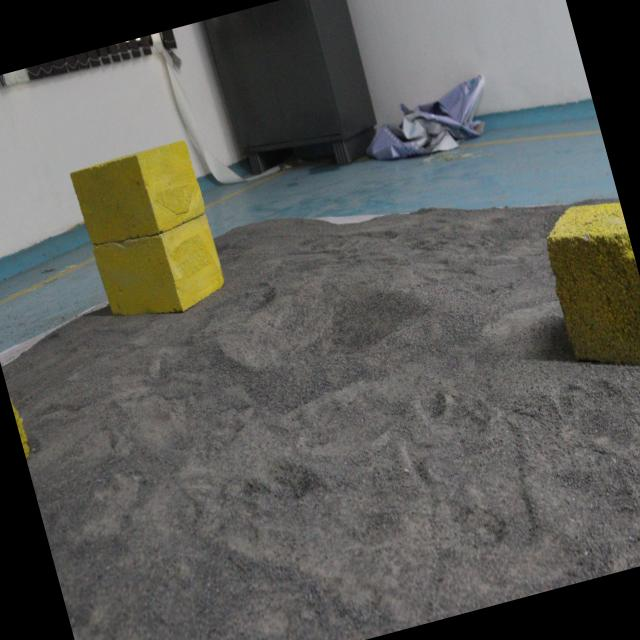box: (60, 128, 237, 340), (532, 194, 640, 405)
crater: (206, 246, 440, 410)
